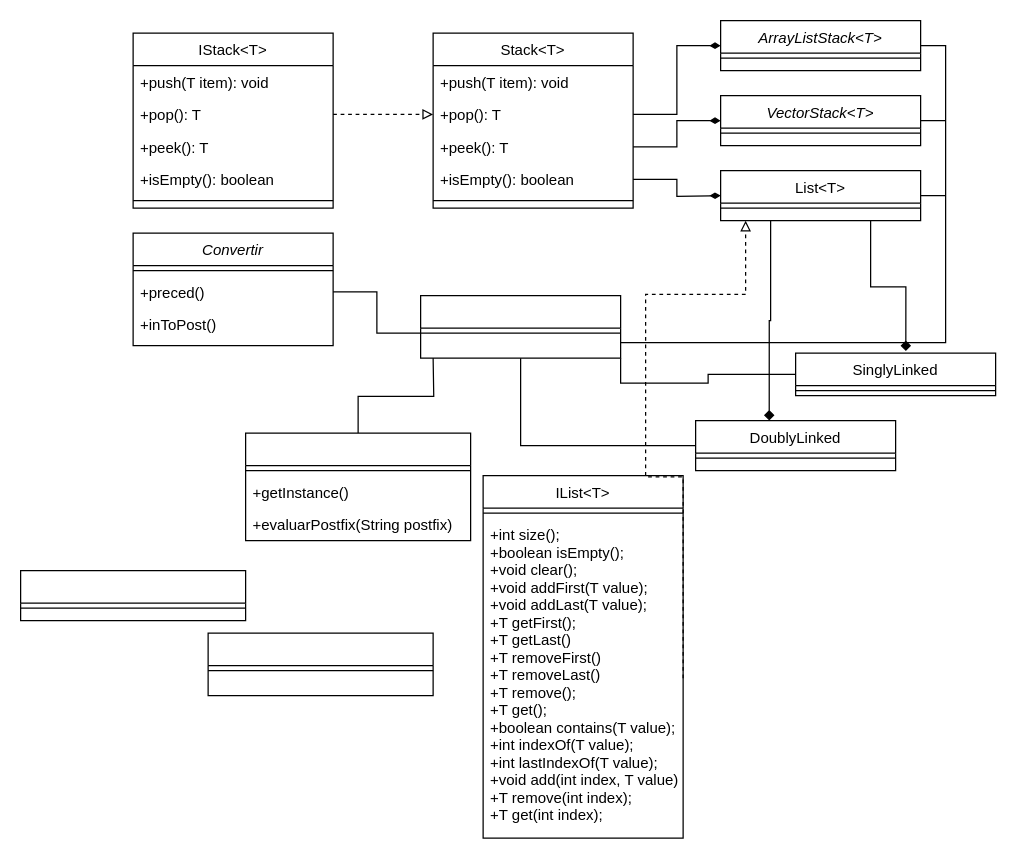
Image size: 1016x859. Some labels were removed from this diagram. The shapes that lost their labels are listed below. From the top down, each one's box as (x1, y1, x2, y2) in pixels, then its label:
(419, 294, 621, 358): Main
(244, 432, 471, 541): Calculadora
(19, 569, 246, 621): StackFactory
(207, 632, 433, 696): ListFactory
